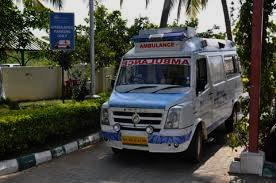ambulance: (107, 30, 239, 152)
